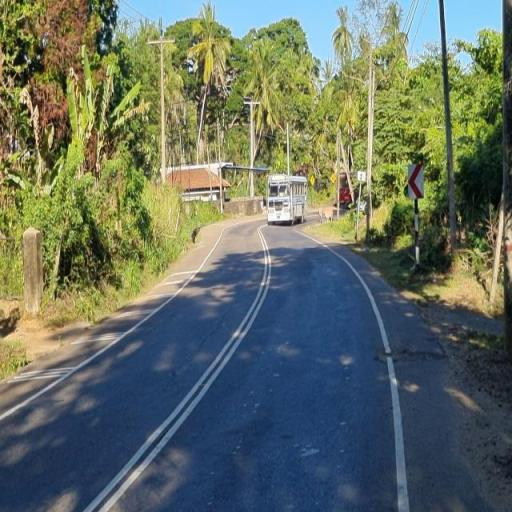double_white_line: (79, 222, 277, 510)
